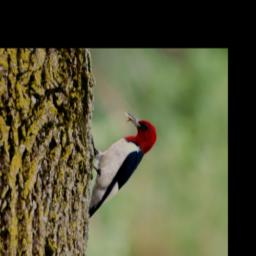Woodpecker: (89, 113, 158, 217)
